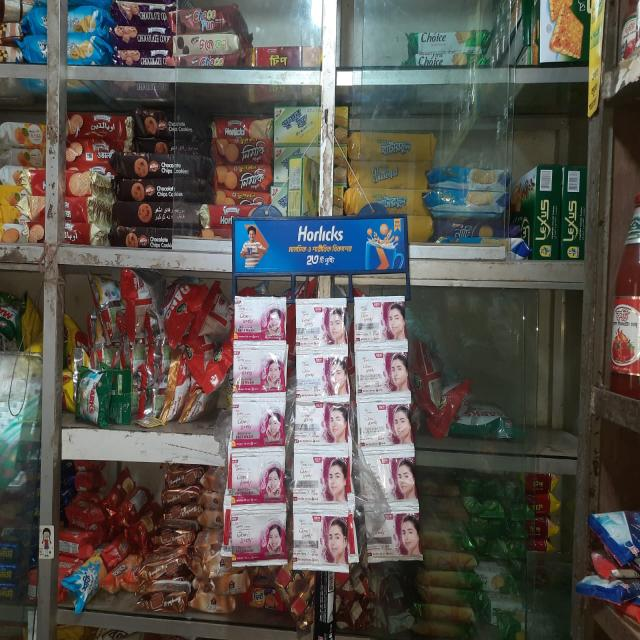ubl: (226, 504, 289, 566), (292, 510, 352, 570), (357, 444, 412, 498), (230, 397, 288, 448), (356, 394, 409, 449), (232, 345, 289, 396), (355, 342, 406, 396), (227, 453, 287, 498), (374, 505, 421, 560), (232, 292, 286, 339), (292, 446, 338, 494), (291, 350, 332, 400), (352, 296, 397, 338), (305, 300, 347, 344), (291, 400, 330, 441)
